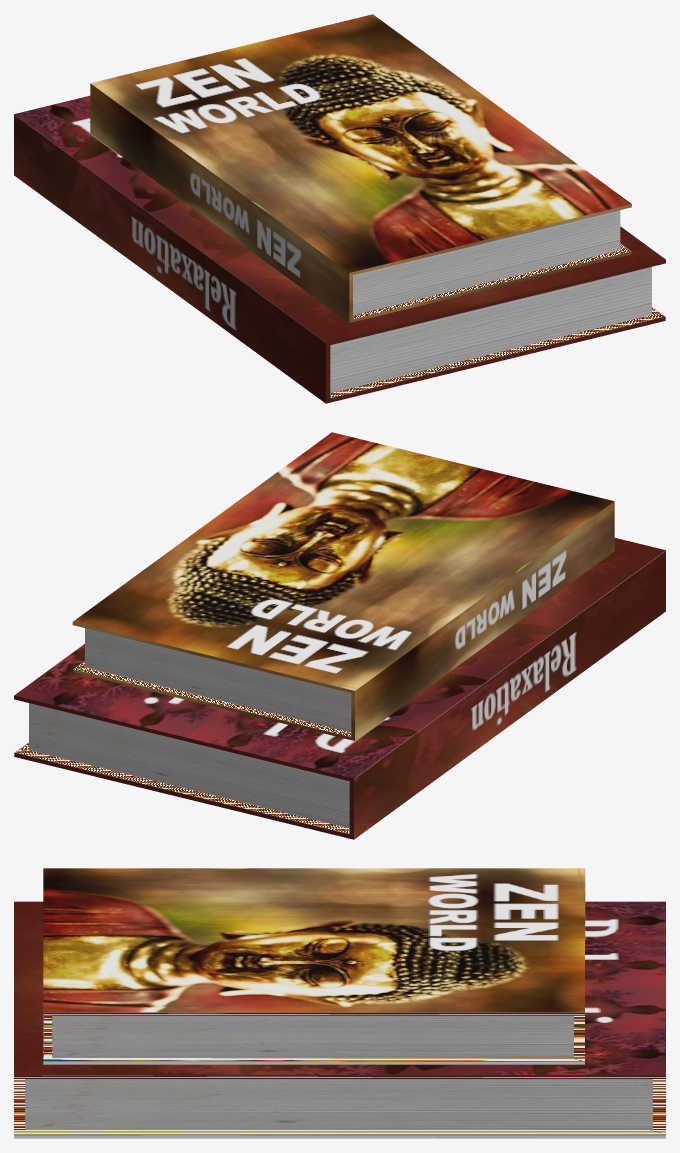
Rendered from Books.FBX.
The picture shows the model from 3 angles, top to bottom: view 1: azimuth 30°, elevation 25°; view 2: azimuth 150°, elevation 25°; view 3: azimuth 270°, elevation 25°; orthographic projection. The views are drawn at different scales.
Visible parts, largest first — view 1: Book 2, Book 1; view 2: Book 2, Book 1; view 3: Book 2, Book 1.
Boxes of the visible parts, x1,y1,x2,y2 form: Book 2: [90, 14, 631, 322]; Book 1: [14, 95, 665, 403]; Book 2: [72, 432, 614, 740]; Book 1: [14, 538, 665, 839]; Book 2: [43, 868, 585, 1064]; Book 1: [14, 901, 665, 1138].
Bounding box in the file's own units: 20.49 × 6.41 × 32.56.
Materials: 1 (1 with a texture image).
